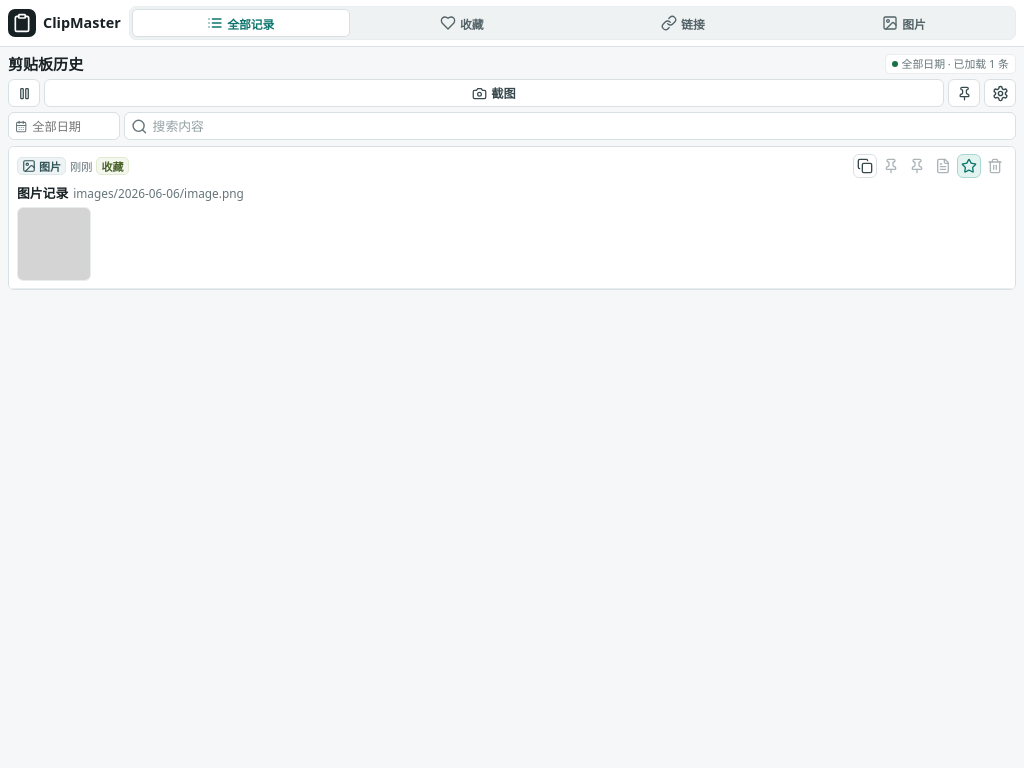
Test: App UI › copies image items to the system clipboard
expect the text "图片记录" is shown: met, box [17, 183, 68, 202]
Click the button named "复制 图片记录" at (865, 166), box [853, 154, 877, 178]
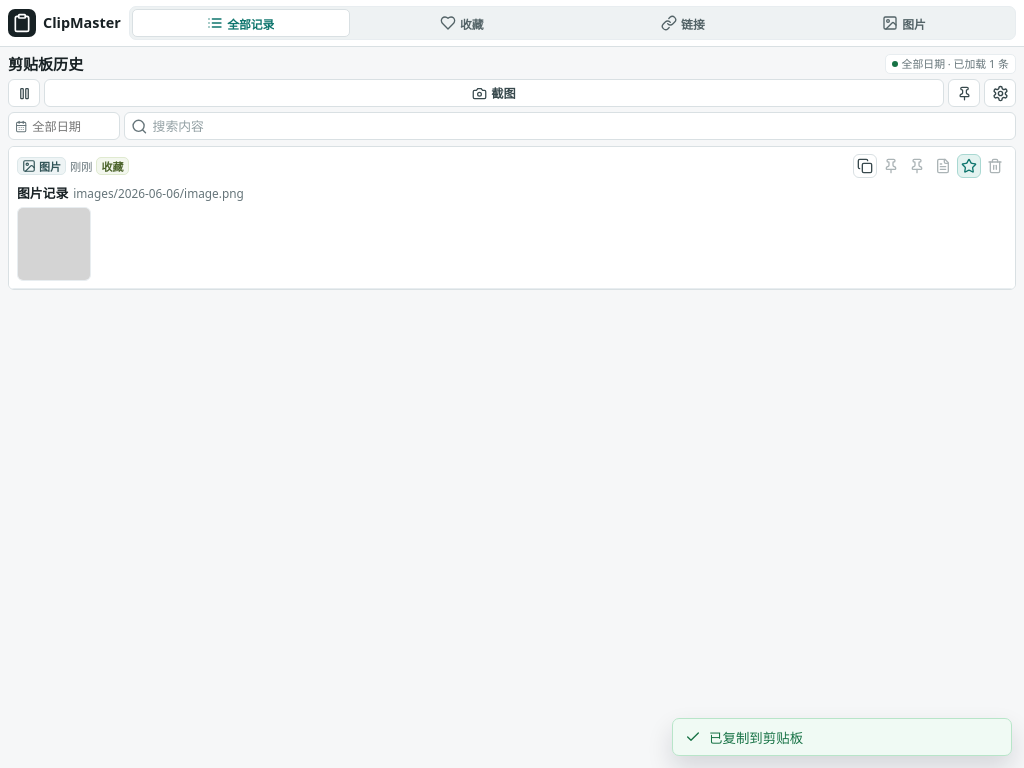
expect the message reads "已复制到剪贴板": met, box [709, 729, 803, 747]
expect the element with test id "toast-stack" reads "已复制到剪贴板": met, box [709, 729, 803, 747]
